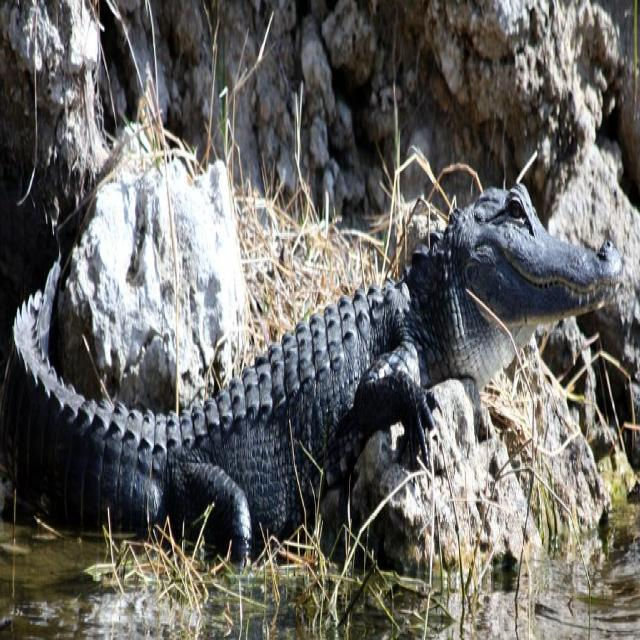crocodile: (0, 164, 639, 584)
